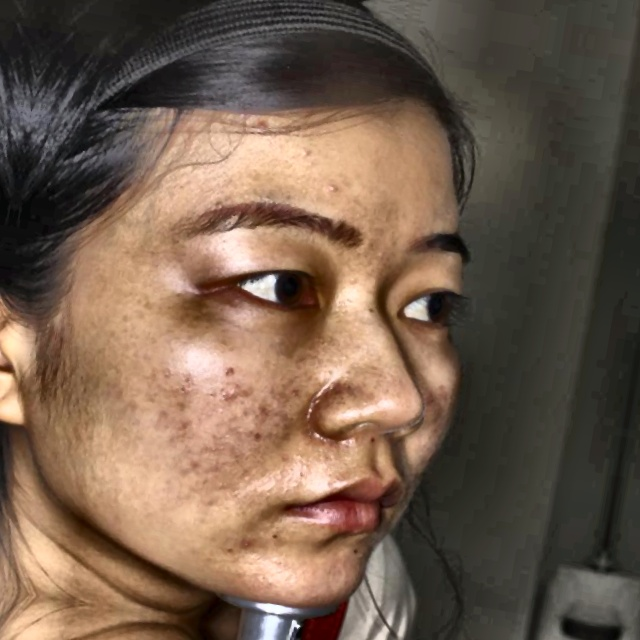comedone: (212, 371, 248, 406), (426, 401, 451, 434)
